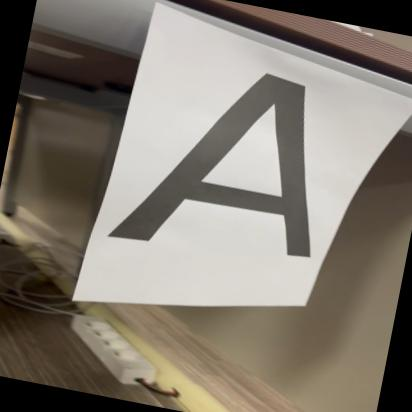seat: (112, 41, 351, 278)
